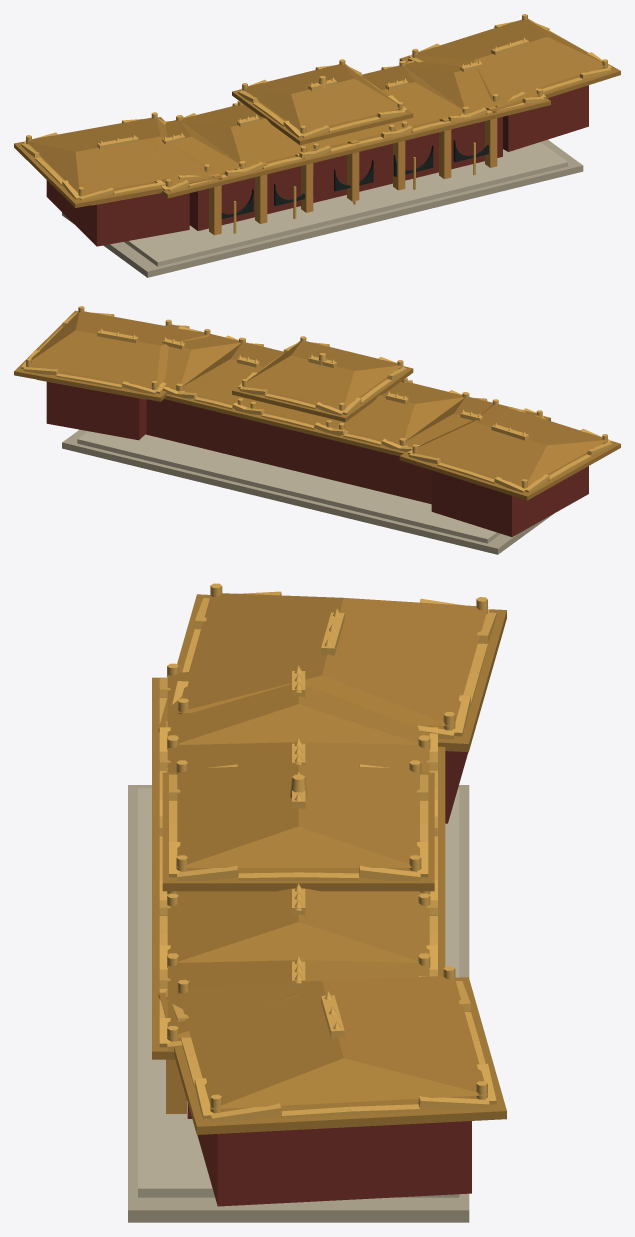
The model's file is meridian-gate-study.glb.
3 renders of one model, top to bottom at view 1: azimuth 30°, elevation 25°; view 2: azimuth 150°, elevation 25°; view 3: azimuth 270°, elevation 25°, orthographic. The views are drawn at different scales.
Visible parts, largest first — view 1: roof (×8), landmark:meridian-gate, upturned-eaves (×8), meridian-wing--1, meridian-wing-1; view 2: roof (×8), landmark:meridian-gate, meridian-wing--1, upturned-eaves (×6), meridian-wing-1; view 3: roof (×8), landmark:meridian-gate, meridian-wing-1, upturned-eaves (×4), meridian-wing--1.
Part boxes in pixels (x1,y1,x2,y2): roof (×8): [14, 14, 620, 207]; landmark:meridian-gate: [62, 76, 583, 277]; upturned-eaves (×8): [21, 21, 612, 200]; meridian-wing--1: [46, 180, 189, 246]; meridian-wing-1: [503, 85, 588, 151]; roof (×8): [14, 306, 620, 500]; landmark:meridian-gate: [62, 353, 553, 554]; meridian-wing--1: [431, 466, 588, 536]; upturned-eaves (×6): [21, 312, 612, 492]; meridian-wing-1: [37, 379, 146, 440]; roof (×8): [152, 583, 506, 1134]; landmark:meridian-gate: [128, 721, 469, 1222]; meridian-wing-1: [197, 1121, 471, 1206]; upturned-eaves (×4): [159, 591, 496, 1122]; meridian-wing--1: [445, 751, 468, 823].
Size of the model in its own units: 16.83 by 3.43 by 5.06.
